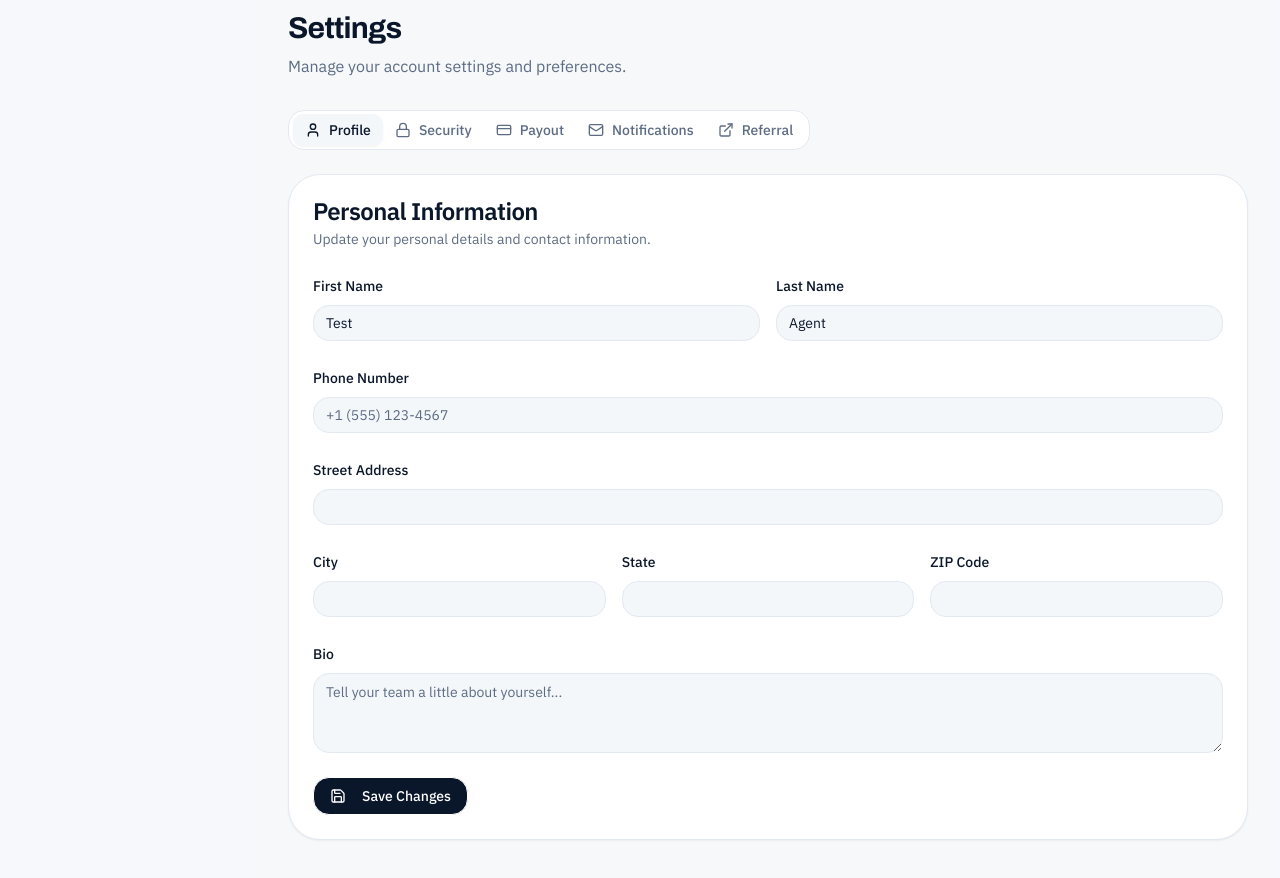
Test: Settings notifications: 'Payment Retry Pending' toggle › renders the toggle
Click the tab with test id "tab-notifications" at (641, 130), box [576,114,706,146]
(page scrolled)
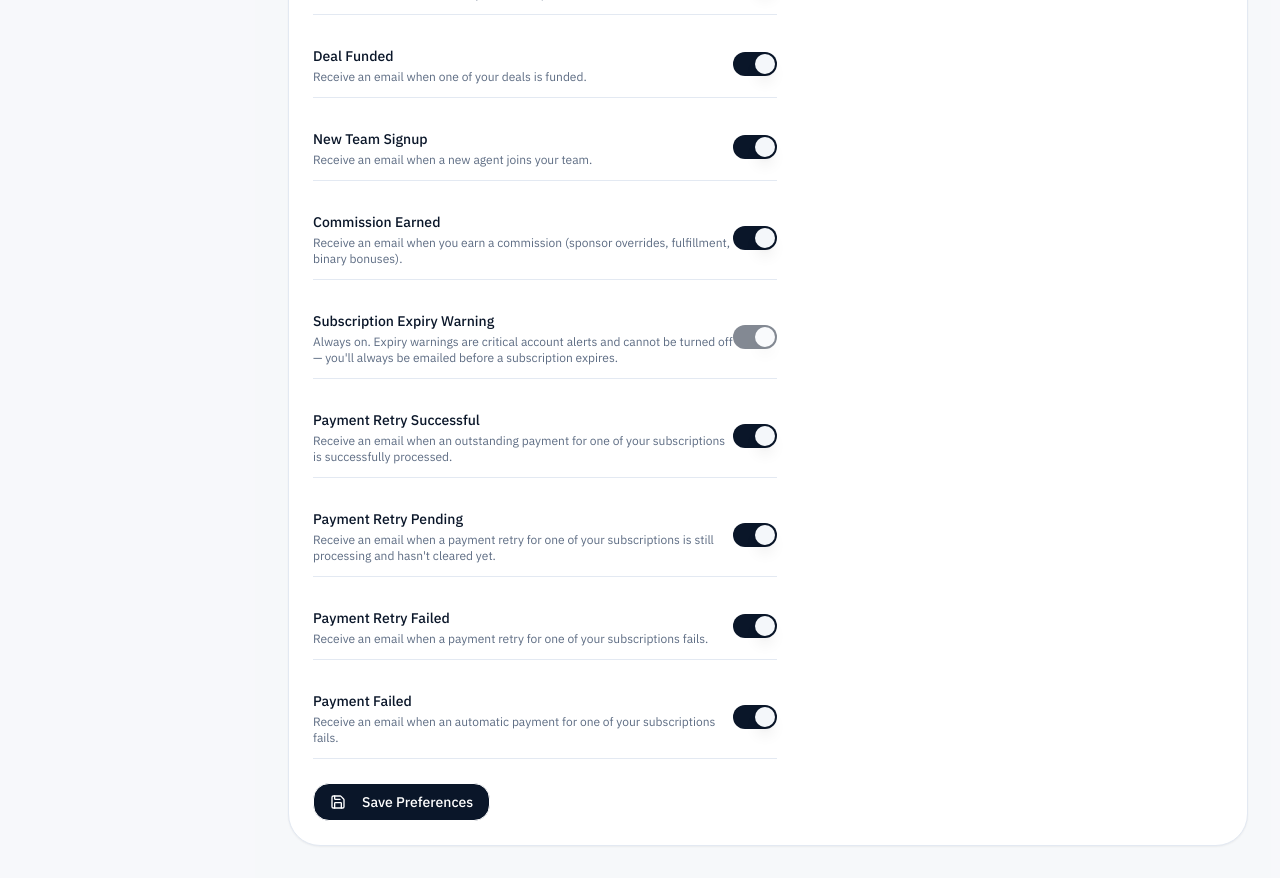
Result: the switch with test id "toggle-email-on-payment-retry-pending" is shown at [733,523,777,547]
